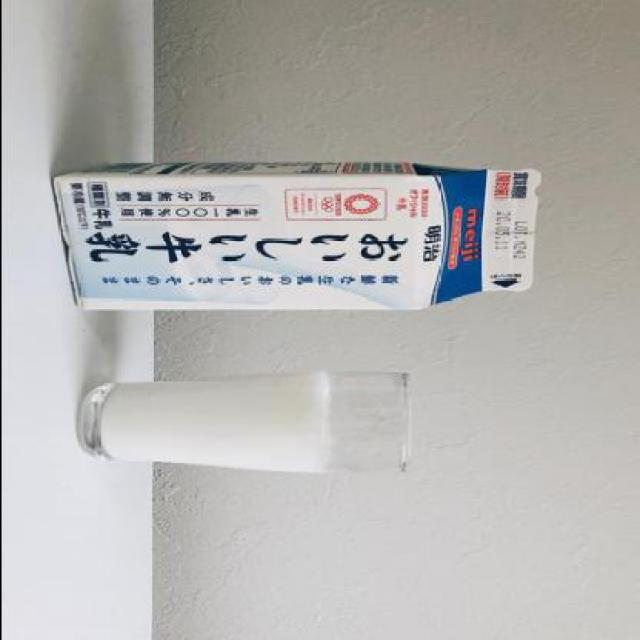non_white_jug: (40, 157, 551, 317)
